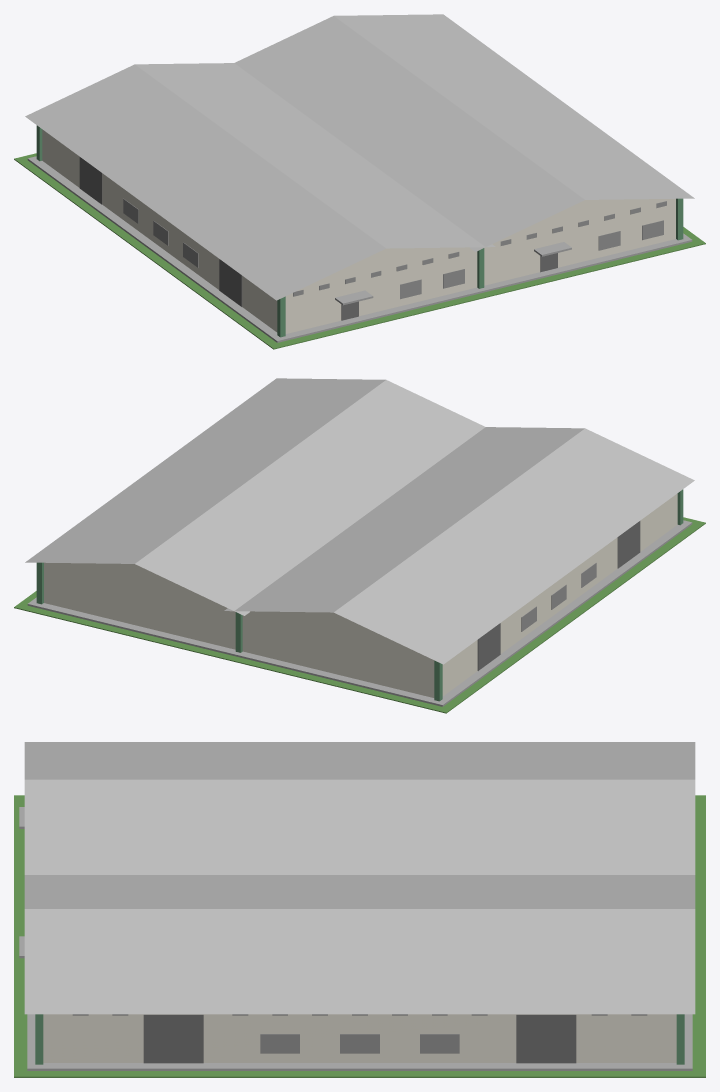
Rendered from Type C.glb.
3 views of the same model, one above another, from view 1: azimuth 30°, elevation 25°; view 2: azimuth 150°, elevation 25°; view 3: azimuth 270°, elevation 25° (orthographic). The views are drawn at different scales.
Visible parts, largest first — view 1: Atap_Kiri, Atap_Kanan, Dinding_Utama, Alas_Teras, Alas_Rumput, Gable_Depan_1, Gable_Depan_2, Roller_Kiri_10, Roller_Kiri_38; view 2: Atap_Kiri, Atap_Kanan, Dinding_Utama, Alas_Teras, Alas_Rumput, Gable_Belakang_1, Gable_Belakang_2, Roller_Kiri_38, Roller_Kiri_10; view 3: Atap_Kanan, Atap_Kiri, Dinding_Utama, Alas_Rumput, Alas_Teras, Roller_Kanan_10, Roller_Kanan_38, Jendela_Kanan_18, Jendela_Kanan_24, Jendela_Kanan_30.
Boxes of the visible parts, bbox=[...] form: Atap_Kiri: bbox=[25, 63, 495, 300]; Atap_Kanan: bbox=[234, 14, 694, 251]; Dinding_Utama: bbox=[42, 129, 675, 333]; Alas_Teras: bbox=[27, 156, 692, 342]; Alas_Rumput: bbox=[14, 153, 705, 349]; Gable_Depan_1: bbox=[306, 247, 466, 286]; Gable_Depan_2: bbox=[506, 199, 664, 237]; Roller_Kiri_10: bbox=[219, 259, 242, 306]; Roller_Kiri_38: bbox=[79, 157, 102, 204]; Atap_Kiri: bbox=[224, 427, 694, 664]; Atap_Kanan: bbox=[25, 378, 485, 615]; Dinding_Utama: bbox=[44, 493, 677, 697]; Alas_Teras: bbox=[27, 520, 692, 706]; Alas_Rumput: bbox=[14, 517, 705, 713]; Gable_Belakang_1: bbox=[253, 611, 413, 650]; Gable_Belakang_2: bbox=[55, 563, 213, 601]; Roller_Kiri_38: bbox=[477, 623, 500, 670]; Roller_Kiri_10: bbox=[617, 521, 640, 568]; Atap_Kanan: bbox=[24, 875, 695, 1014]; Atap_Kiri: bbox=[24, 742, 695, 874]; Dinding_Utama: bbox=[43, 1014, 676, 1062]; Alas_Rumput: bbox=[14, 795, 705, 1077]; Alas_Teras: bbox=[27, 1014, 692, 1070]; Roller_Kanan_10: bbox=[143, 1014, 203, 1063]; Roller_Kanan_38: bbox=[516, 1014, 576, 1063]; Jendela_Kanan_18: bbox=[260, 1034, 299, 1053]; Jendela_Kanan_24: bbox=[340, 1034, 379, 1053]; Jendela_Kanan_30: bbox=[420, 1034, 459, 1053].
Bounding box in the file's own units: 50 × 7.7 × 52.
